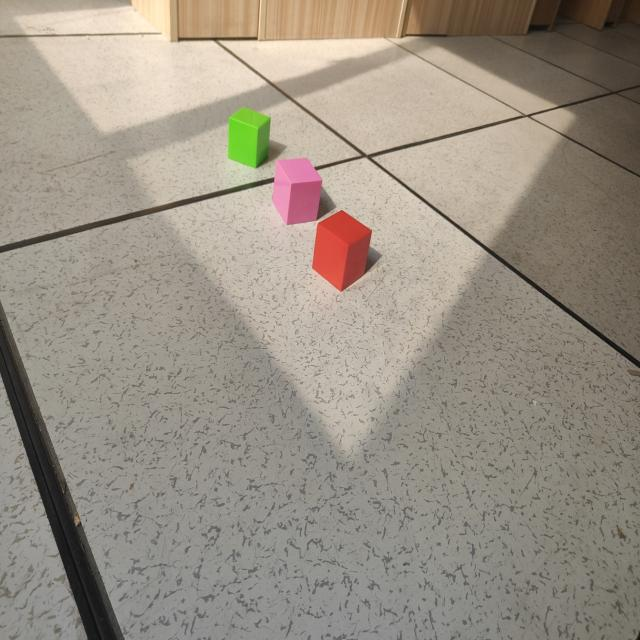green: (227, 106, 270, 167)
pink: (270, 158, 322, 225)
red: (312, 211, 381, 293)
